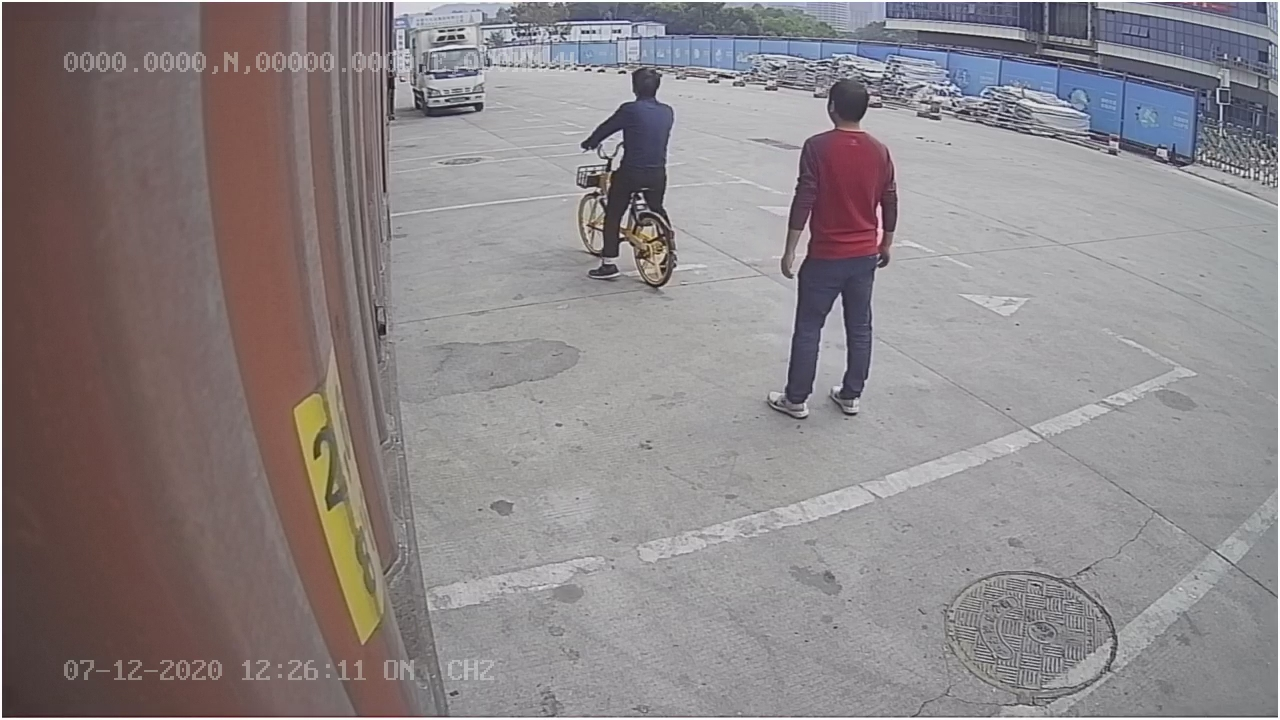person: (755, 75, 903, 423)
